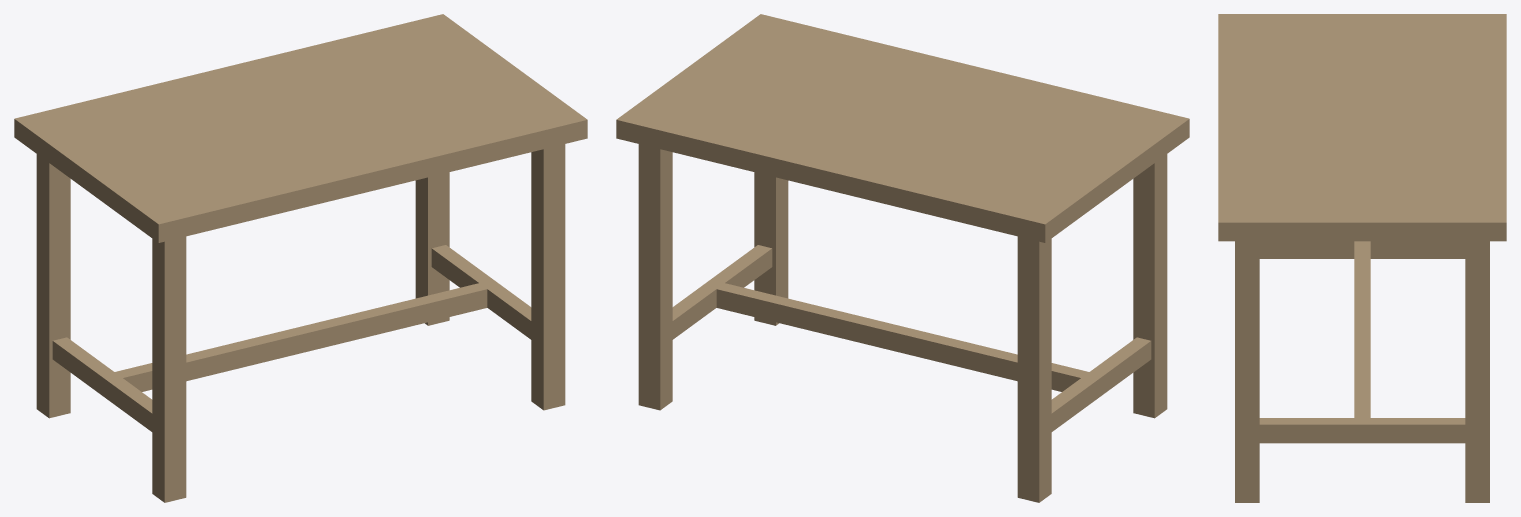
The model's file is table.glb.
3 views of the same model, side by side, from view 1: azimuth 30°, elevation 25°; view 2: azimuth 150°, elevation 25°; view 3: azimuth 270°, elevation 25° (orthographic).
Parts seen in each view (by area): view 1: table_body; view 2: table_body; view 3: table_body.
Part boxes in pixels (box(x1,y1,x2,y2)): table_body: box(14, 14, 587, 502); table_body: box(616, 14, 1189, 502); table_body: box(1218, 14, 1506, 502).
Size of the model in its own units: 1.2 by 0.77 by 0.7.
